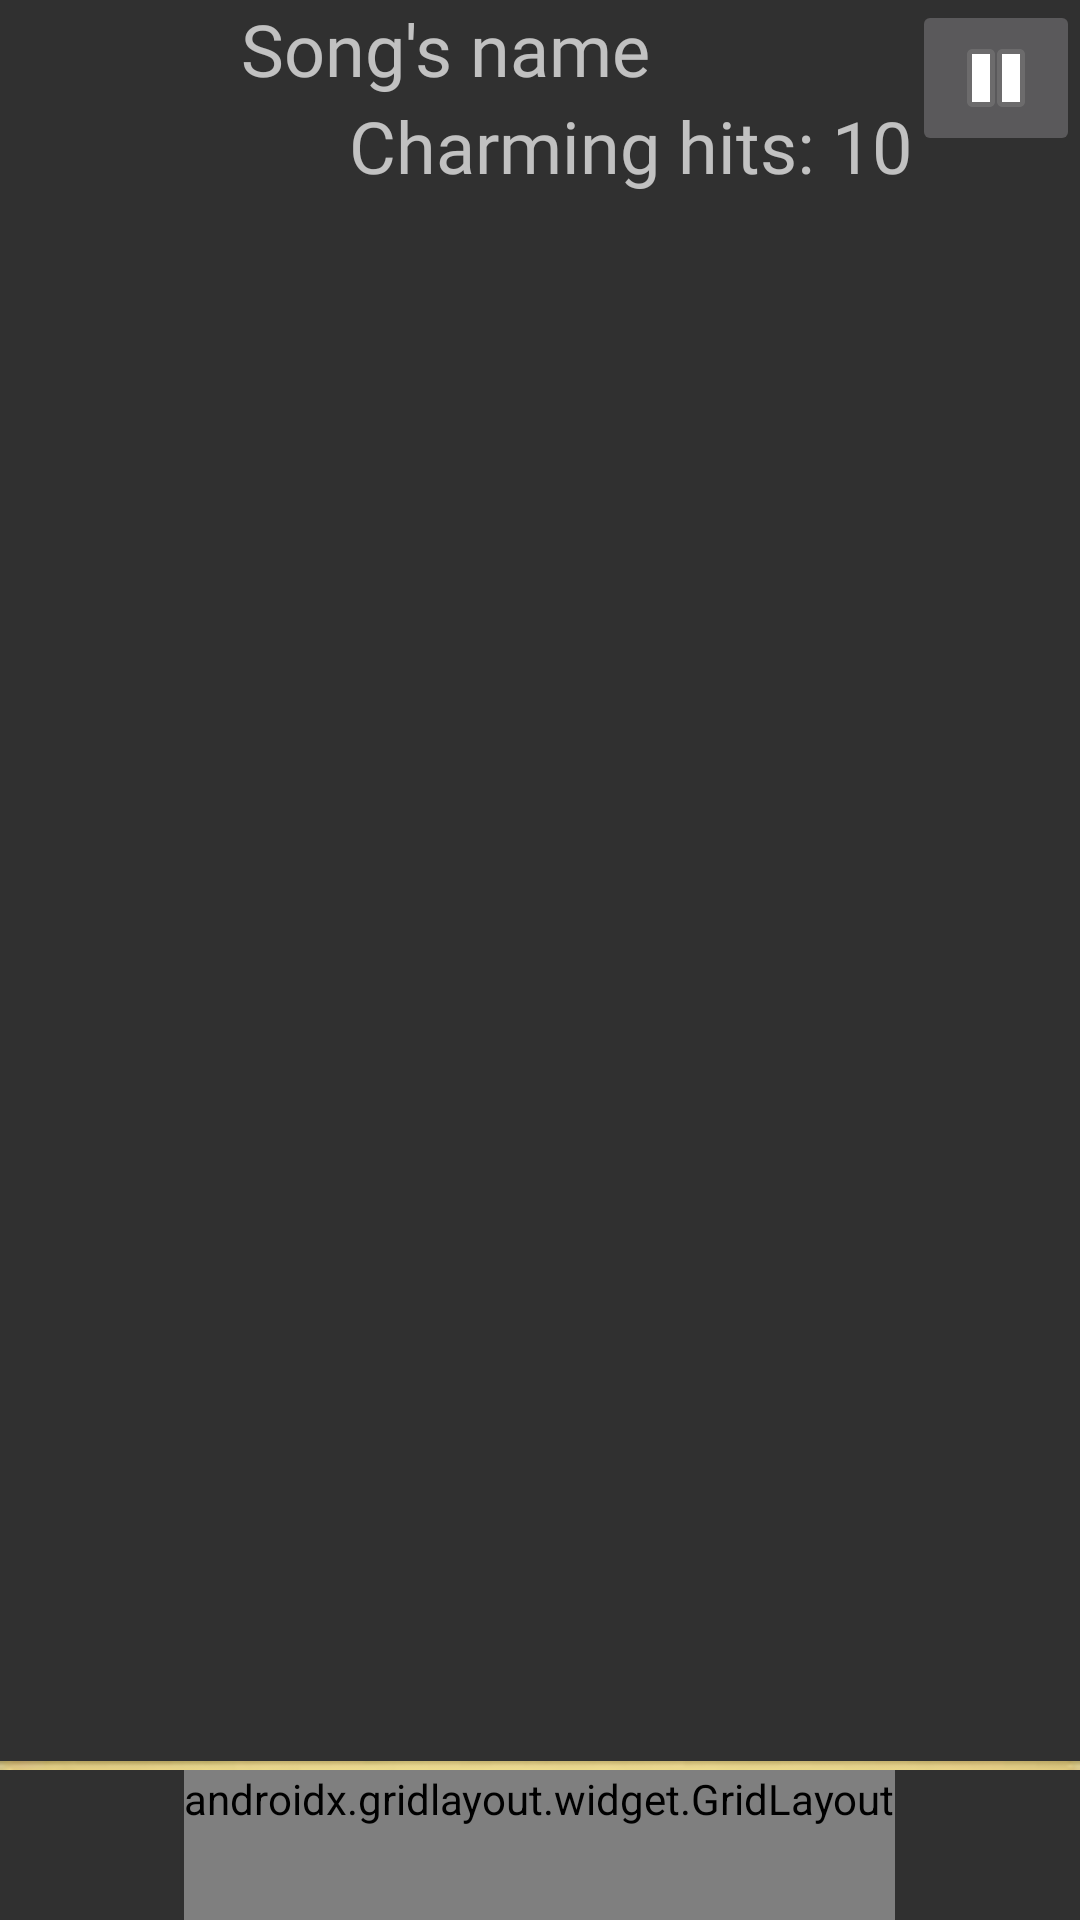

Where icons sit on this 1080 x 1920 app screen, as [x1, y1, x2, y2]:
pause: [924, 18, 1068, 138]
